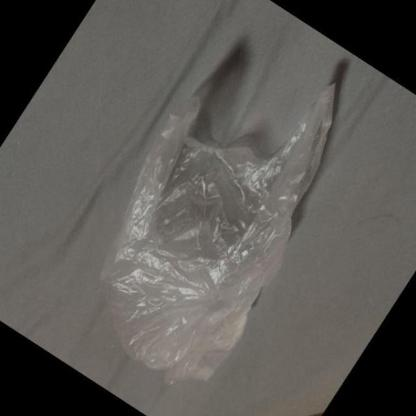Plastic Bag: (100, 57, 331, 383)
